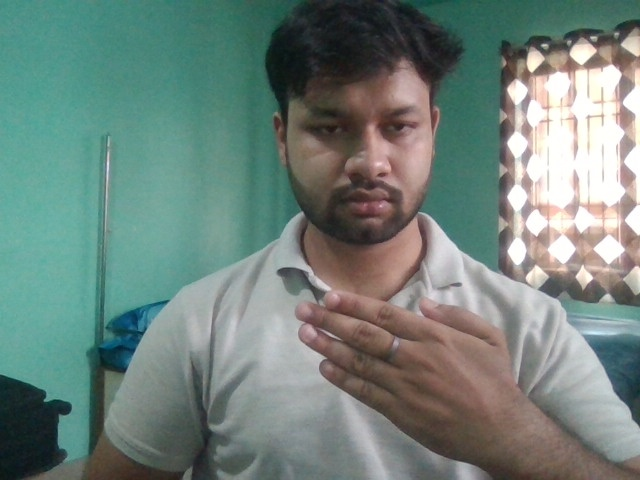Please: (290, 282, 527, 470)
